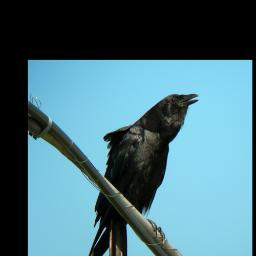Crow: (83, 91, 199, 256)
